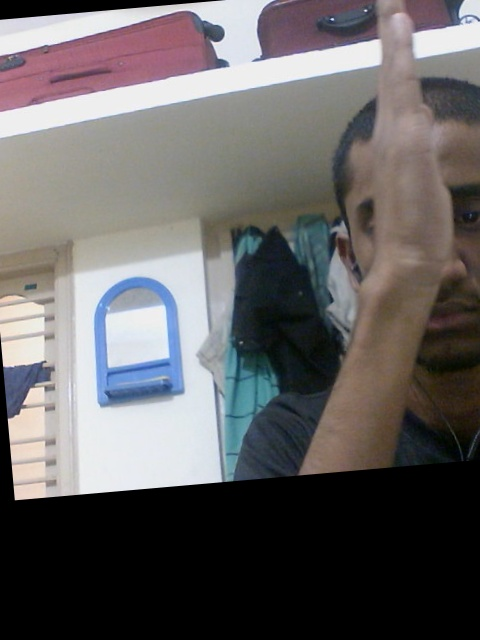hand: (364, 1, 457, 278)
